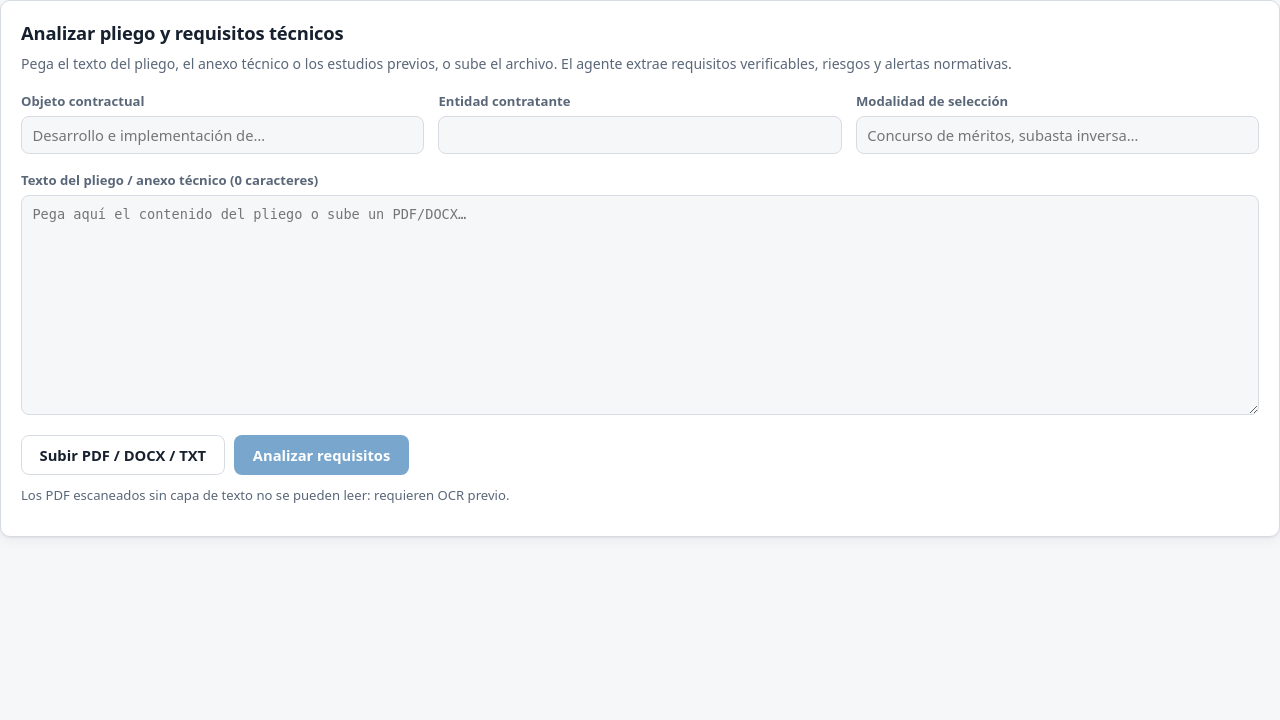
Scenario: cancelación de operaciones largas › un fallo real sí se reporta
The width and height of the screenshot is (1280, 720).
Type "El contratista debe desarrollar el portal ciudadano bajo microservicios." into the text box labelled "Texto del pliego / anexo técnico (0 caracteres)" at [640, 305], box [21, 195, 1259, 415]
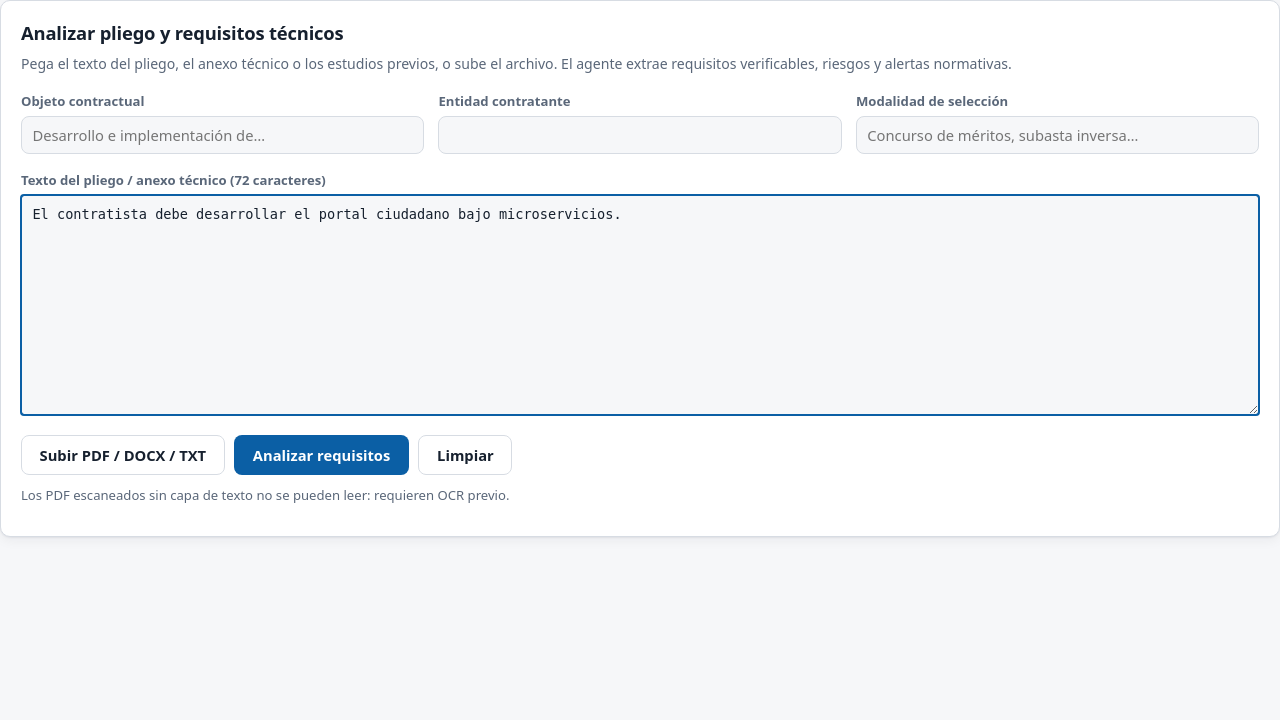
Click the button "Analizar requisitos" at [322, 455], box [234, 435, 409, 475]
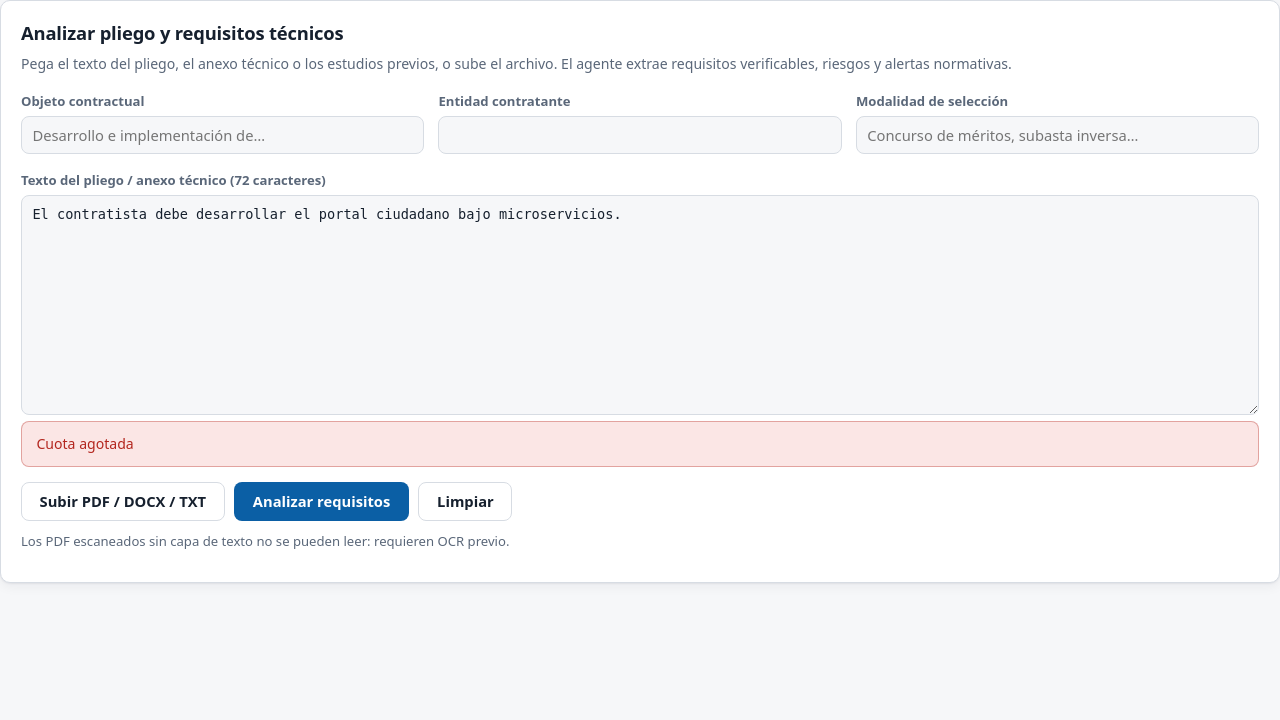
Now the message reads "Cuota agotada", box [36, 434, 134, 453]
